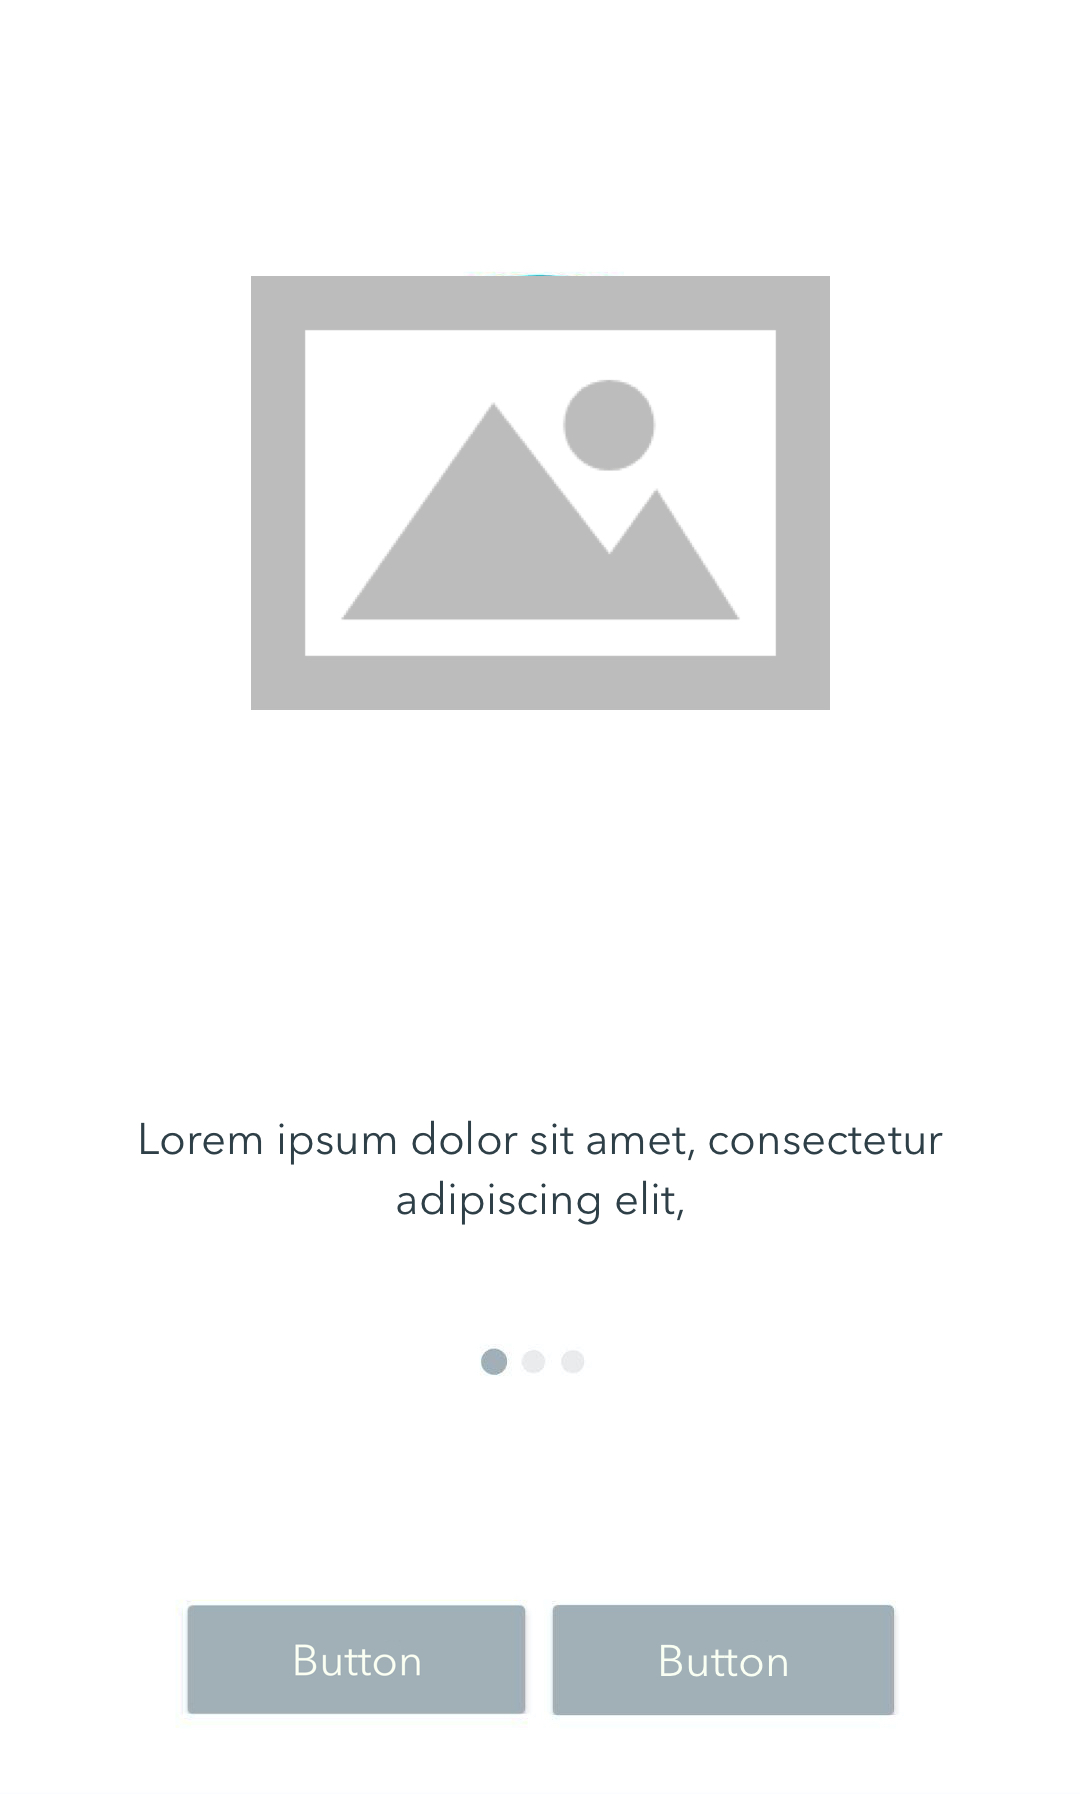Image: (250, 276, 833, 712)
PageIndicator: (480, 1348, 585, 1378)
Text: (140, 1120, 943, 1226)
TextButton: (552, 1604, 896, 1716), (187, 1603, 527, 1715)
